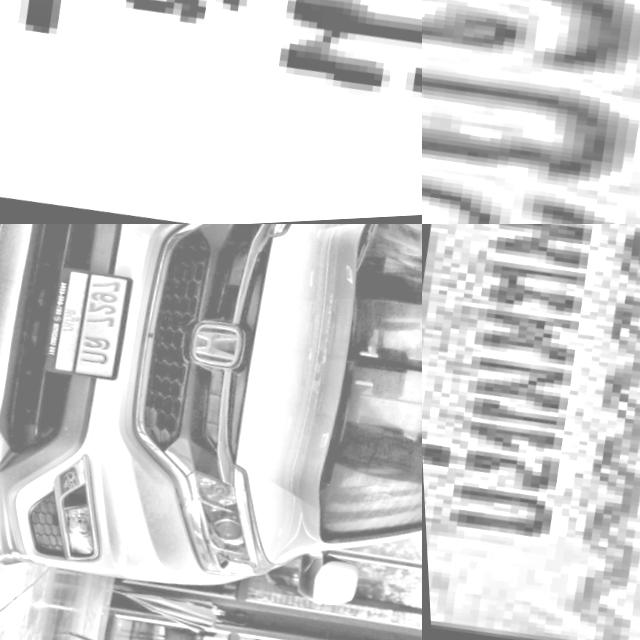license-plate: (0, 0, 422, 224), (422, 224, 640, 640), (422, 0, 640, 224), (30, 262, 137, 387)
